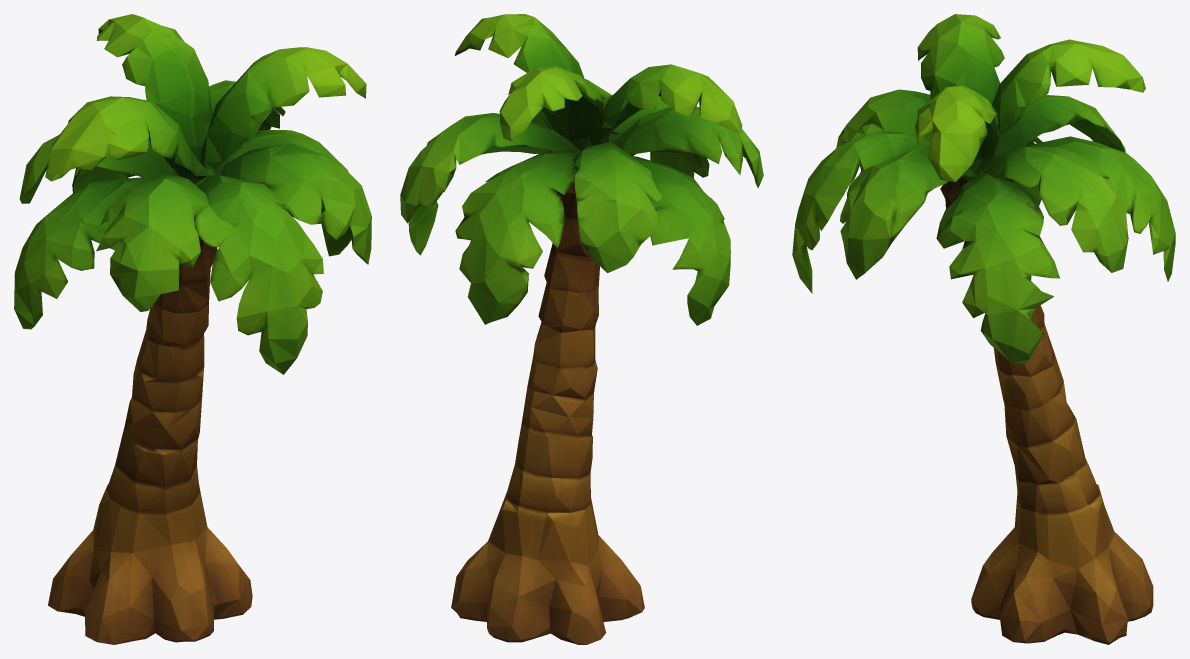
The model's file is palm_tree_b.glb.
3 views of the same model, side by side, from view 1: azimuth 30°, elevation 25°; view 2: azimuth 150°, elevation 25°; view 3: azimuth 270°, elevation 25° (orthographic). The views are drawn at different scales.
Visible parts, largest first — view 1: geometry_0; view 2: geometry_0; view 3: geometry_0.
Part boxes in pixels (x1,y1,x2,y2): geometry_0: (14,14,371,644); geometry_0: (400,14,763,644); geometry_0: (792,14,1175,644).
Size of the model in its own units: 0.5961 by 1 by 0.6167.
Materials: 1 (1 with a texture image).
